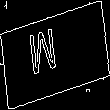M_S: (39, 25, 71, 85)
